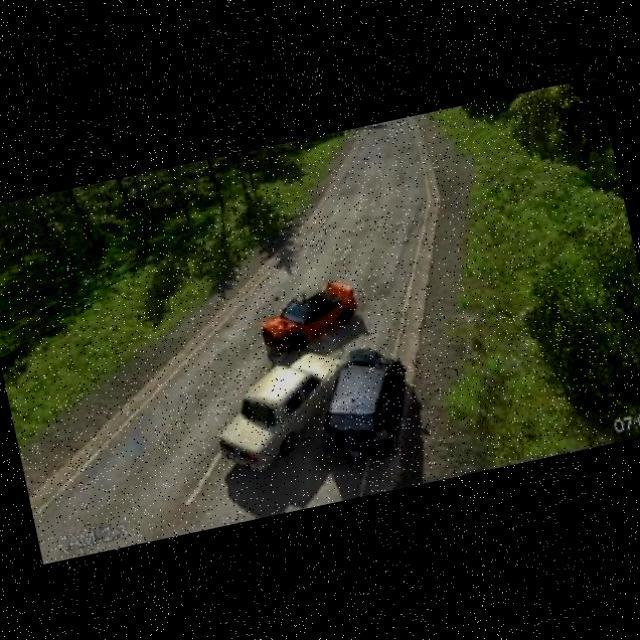accident: (276, 338, 387, 431)
